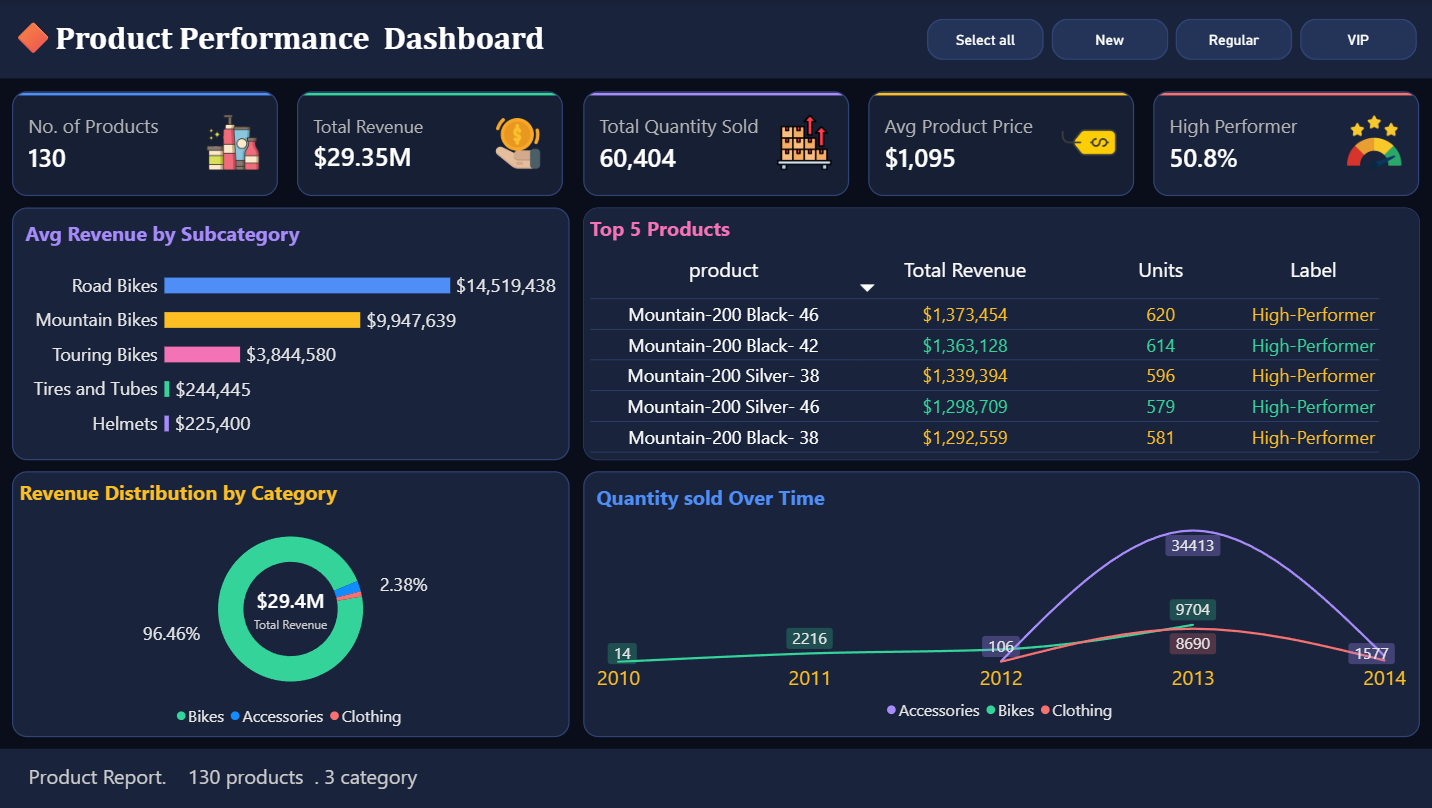

The dashboard page shown, as its layout file describes it:
{"tool":"powerbi","page":{"name":"Page 2","canvas":[1920,1080],"ordinal":1},"visuals":[{"type":"cardVisual","fields":{"Data":["Count(gold report_products.product_key)"]},"box":[20,121.5,355,140],"z":0},{"type":"cardVisual","fields":{"Data":["Sum(gold report_customers.total_sales)"]},"box":[401.2,121.5,355,140],"z":1000},{"type":"cardVisual","fields":{"Data":["Sum(gold report_products.total_quantity)"]},"box":[782.5,121.5,355,140],"z":2000},{"type":"cardVisual","fields":{"Data":["Avg(gold report_products.avg_selling_price)"]},"box":[1163.8,121.5,355,140],"z":3000},{"type":"cardVisual","fields":{"Data":["gold report_products.High_Performance Share"]},"box":[1545,122.5,355,140],"z":4000},{"type":"donutChart","title":"Revenue  Distribution  by Category ","fields":{"Category":["gold report_products.category"],"Y":["Sum(gold report_products.total_sales)"]},"box":[20,630,745,355],"z":5000},{"type":"textbox","box":[0,1000,1920,80],"z":10000},{"type":"textbox","box":[0,0,1920,105],"z":11000},{"type":"advancedSlicerVisual","fields":{"Values":["gold report_customers.customer_segment"]},"box":[1242.9,25.7,657.1,55.7],"z":12000},{"type":"tableEx","title":"Top 5 Products ","fields":{"Values":["gold report_products.product_name","Sum(gold report_products.total_sales)","Sum(gold report_products.total_quantity)","gold report_products.product_segment"]},"box":[782.5,277.5,1117.5,337.5],"z":12001},{"type":"barChart","title":"Avg Revenue  by Subcategory ","fields":{"Category":["gold report_products.subcategory"],"Y":["Sum(gold report_products.total_sales)"]},"box":[20,277.5,745,337.5],"z":12002},{"type":"lineChart","title":"Quantity sold Over Time","fields":{"Category":["gold fact_sales.order_date.Variation.Date Hierarchy.Year"],"Series":["gold dim_products.category"],"Y":["Sum(gold fact_sales.quantity)"]},"box":[782.5,630,1117.5,355],"z":12004}]}

Visuals, with their boxes in screenshot pixels (x1, y1, x2, y2), scaled from the page's 1920x1080 canvas onto the 1432x808 screenshot:
cardVisual - Count(gold report_products.product_key): 15,91,280,196
cardVisual - Sum(gold report_customers.total_sales): 299,91,564,196
cardVisual - Sum(gold report_products.total_quantity): 584,91,848,196
cardVisual - Avg(gold report_products.avg_selling_price): 868,91,1133,196
cardVisual - gold report_products.High_Performance Share: 1152,92,1417,196
"Revenue  Distribution  by Category " donutChart: 15,471,571,737
textbox: 0,748,1431,807
textbox: 0,0,1431,79
advancedSlicerVisual - gold report_customers.customer_segment: 927,19,1417,61
"Top 5 Products " tableEx: 584,208,1417,460
"Avg Revenue  by Subcategory " barChart: 15,208,571,460
"Quantity sold Over Time" lineChart: 584,471,1417,737
